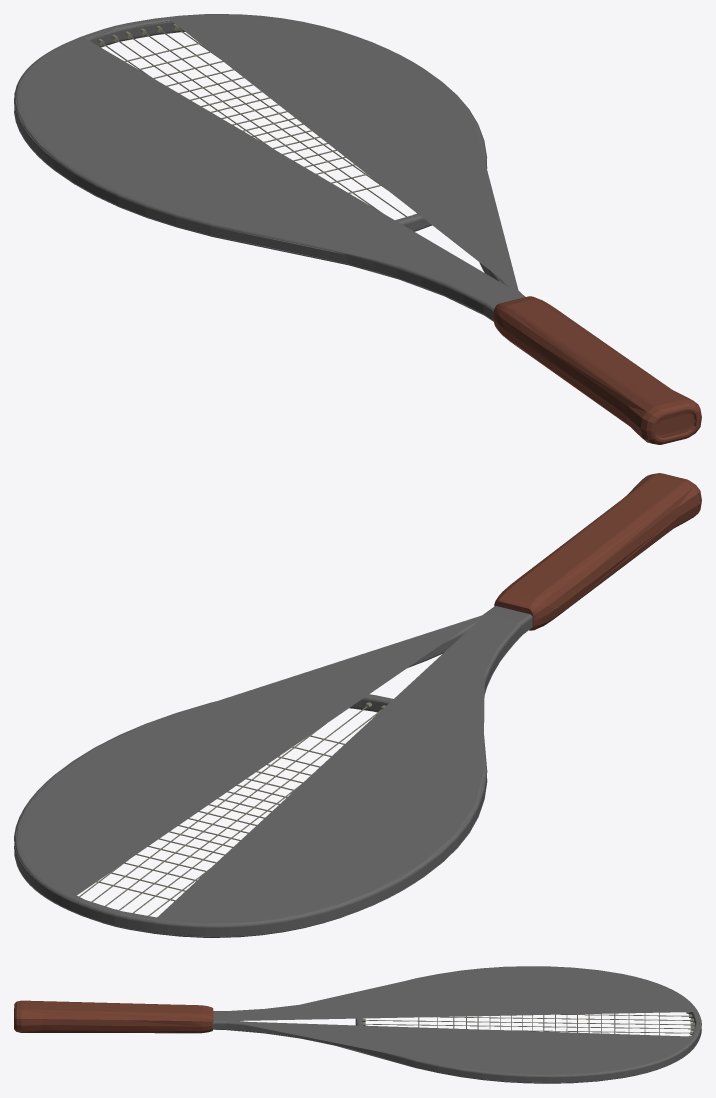
File: tennisRacket.obj
3 views of the same model, one above another, from view 1: azimuth 30°, elevation 25°; view 2: azimuth 150°, elevation 25°; view 3: azimuth 270°, elevation 25° (orthographic). The views are drawn at different scales.
Visible parts, largest first — view 1: rack.001_arch27_004.001, holder.001_arch27_005.001, wire.001_arch27_003.001; view 2: rack.001_arch27_004.001, holder.001_arch27_005.001, wire.001_arch27_003.001; view 3: rack.001_arch27_004.001, holder.001_arch27_005.001, wire.001_arch27_003.001.
Part boxes in pixels (<box>): rack.001_arch27_004.001: <box>14,14,525,321</box>; holder.001_arch27_005.001: <box>493,296,701,444</box>; wire.001_arch27_003.001: <box>97,24,406,216</box>; rack.001_arch27_004.001: <box>14,606,532,937</box>; holder.001_arch27_005.001: <box>494,473,701,630</box>; wire.001_arch27_003.001: <box>79,702,385,915</box>; rack.001_arch27_004.001: <box>212,966,701,1083</box>; holder.001_arch27_005.001: <box>14,1000,213,1033</box>; wire.001_arch27_003.001: <box>362,1012,694,1036</box>.
Size of the model in its own units: 26.04 by 2.89 by 68.46.
